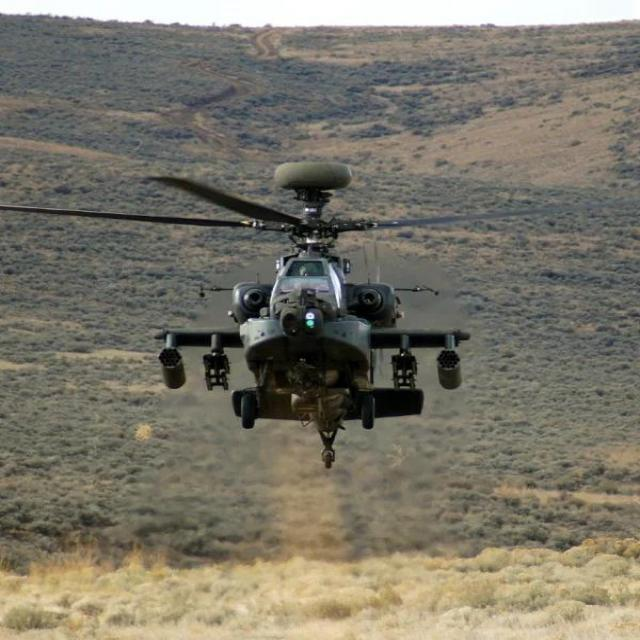MIL_HELO: (0, 153, 636, 466)
